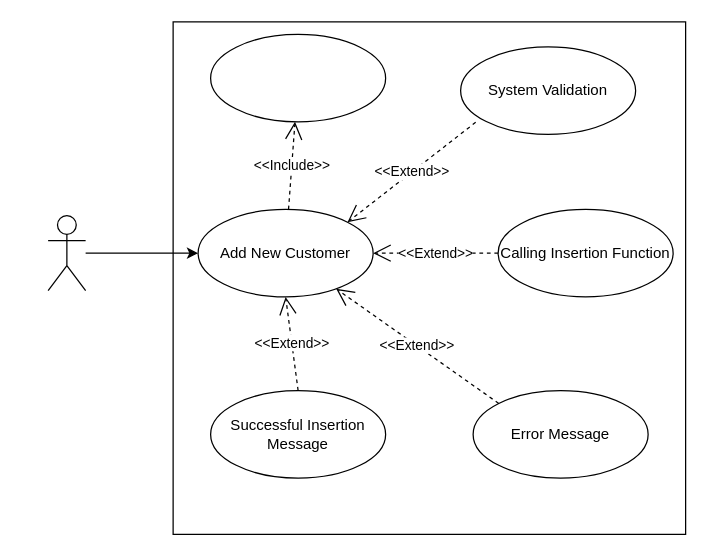
Some shapes in this 708 by 556 pixel diagram are drawn without their labels. The box of each missing label's shape, as (x1, y1, x2, y2) in pixels:
Owner/Admin: (47, 214, 86, 291)
System Checking Inputs: (209, 33, 386, 122)
